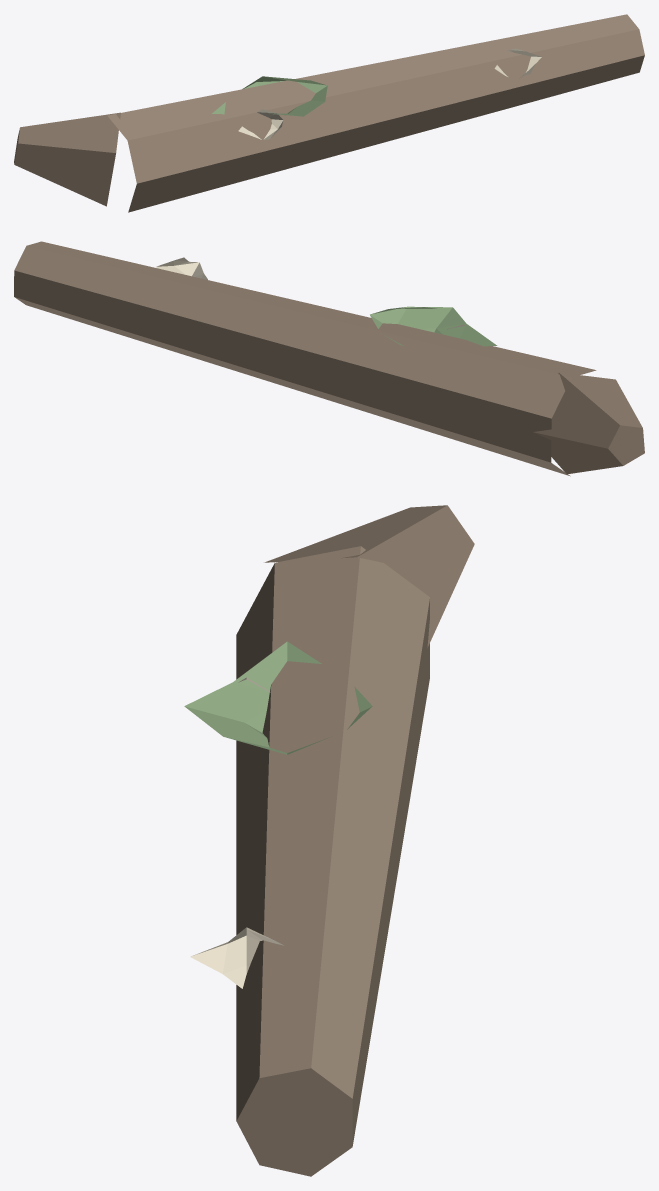
The model's file is log_v33.glb.
3 renders of one model, top to bottom at view 1: azimuth 30°, elevation 25°; view 2: azimuth 150°, elevation 25°; view 3: azimuth 270°, elevation 25°, orthographic. The views are drawn at different scales.
Parts seen in each view (by area): view 1: lod0; view 2: lod0; view 3: lod0.
Part boxes in pixels (box(x1,y1,x2,y2)): lod0: box(14, 14, 644, 212); lod0: box(14, 241, 644, 476); lod0: box(184, 505, 474, 1176).
Size of what is drawn, in the model's own units: 3.2 by 0.5372 by 0.6844.
